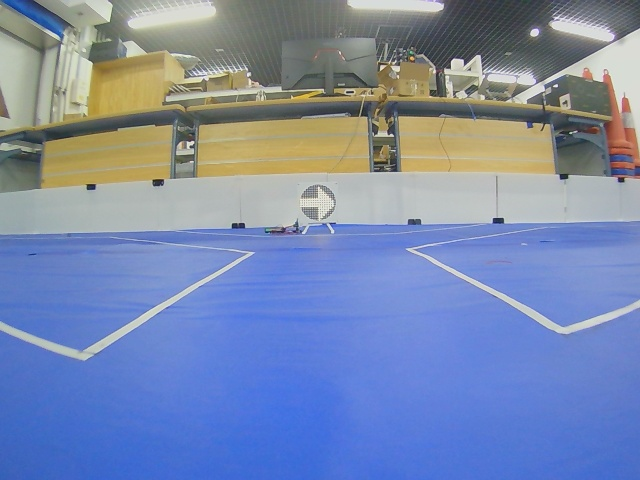right_yellow: (300, 184, 336, 221)
